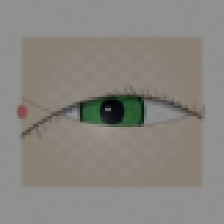pinguecula_lesion: (31, 94, 65, 122)
